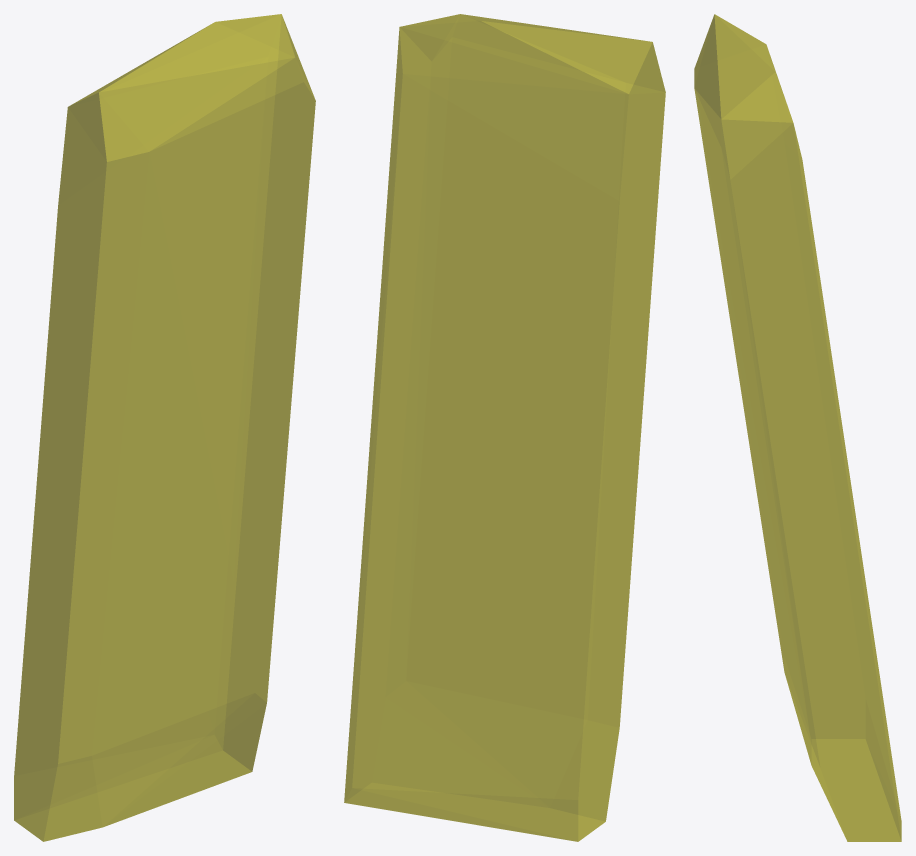
3 renders of one model, left to right at view 1: azimuth 30°, elevation 25°; view 2: azimuth 150°, elevation 25°; view 3: azimuth 270°, elevation 25°, orthographic. The views are drawn at different scales.
Parts seen in each view (by area): view 1: Shape_IndexedFaceSet.027_Shape_IndexedFaceSet.6434; view 2: Shape_IndexedFaceSet.027_Shape_IndexedFaceSet.6434; view 3: Shape_IndexedFaceSet.027_Shape_IndexedFaceSet.6434.
Part boxes in pixels (<box>): Shape_IndexedFaceSet.027_Shape_IndexedFaceSet.6434: <box>14,14,315,841</box>; Shape_IndexedFaceSet.027_Shape_IndexedFaceSet.6434: <box>344,14,665,841</box>; Shape_IndexedFaceSet.027_Shape_IndexedFaceSet.6434: <box>694,14,901,841</box>.
Size of the model in its own units: 0.172 by 0.5733 by 0.1465.
